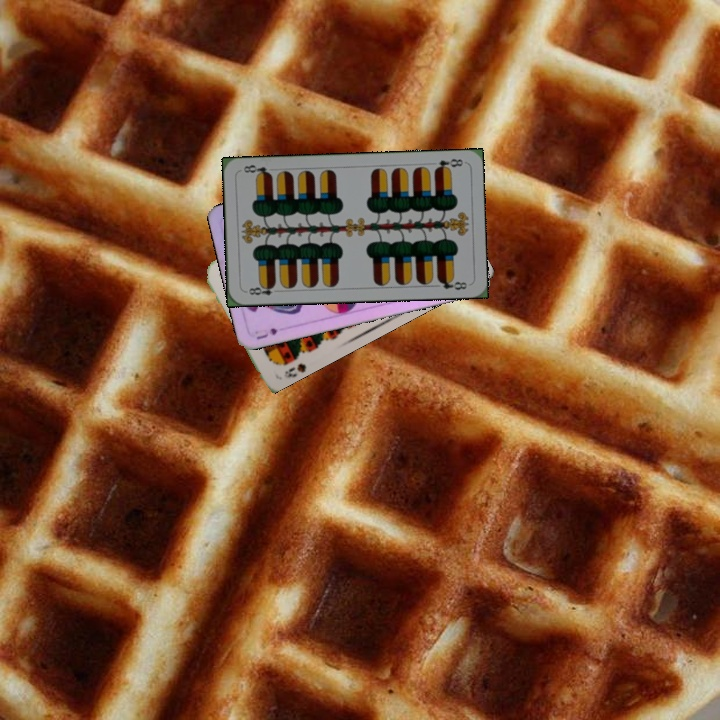E8: (242, 280, 282, 298), (430, 154, 466, 174)
S8: (280, 359, 309, 381)
SU: (252, 324, 280, 342)
